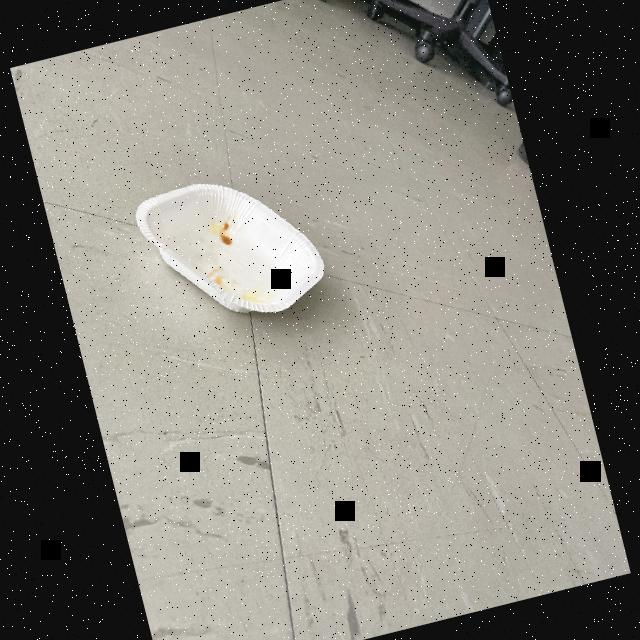cardboard_bowl: (119, 150, 341, 347)
